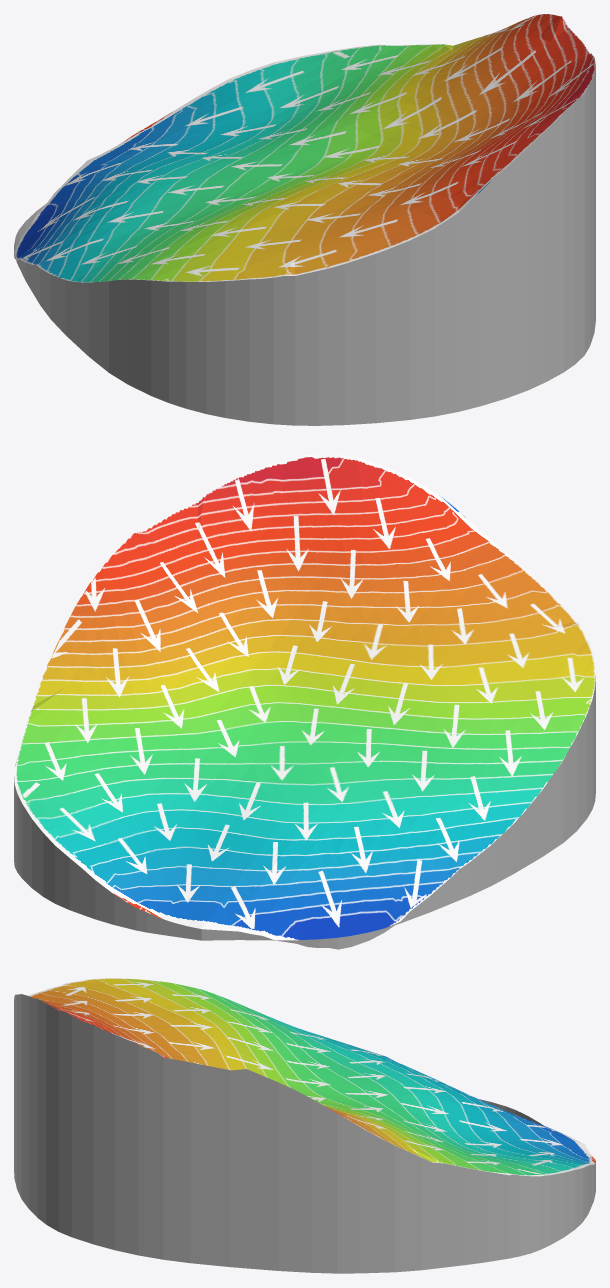
3 renders of one model, top to bottom at view 1: azimuth 30°, elevation 25°; view 2: azimuth 150°, elevation 25°; view 3: azimuth 270°, elevation 25°, orthographic. The views are drawn at different scales.
Bounding box in the file's own units: 3.92 × 2.18 × 4.91.
Materials: 2 (1 with a texture image).
